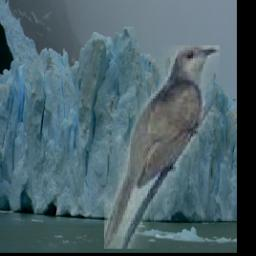Cuckoo: (103, 46, 219, 250)
